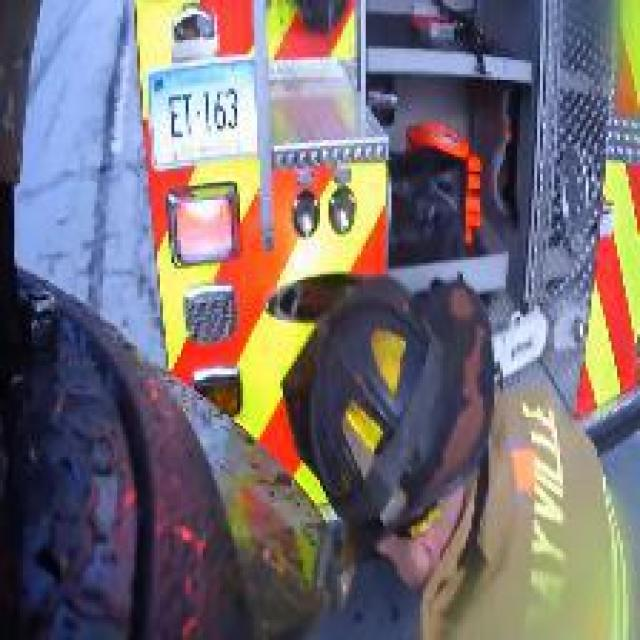other: (132, 14, 399, 443), (593, 3, 634, 397)
